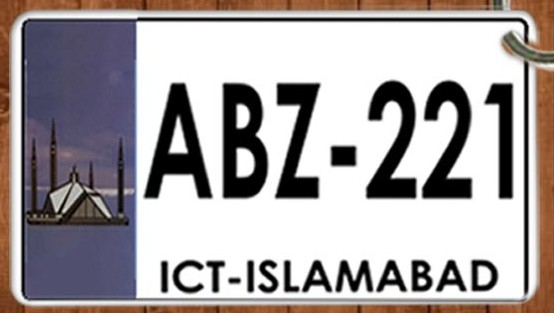1: (483, 74, 518, 201)
2: (360, 76, 419, 201), (420, 74, 477, 201)
A: (142, 77, 214, 200), (374, 255, 408, 294), (434, 256, 467, 295), (302, 256, 333, 294)
B: (215, 74, 268, 203), (408, 255, 434, 294)
C: (170, 254, 205, 294)
D: (468, 254, 499, 295)
I: (157, 257, 173, 294), (243, 257, 259, 293)
L: (280, 255, 301, 295)
M: (335, 256, 375, 294)
S: (257, 258, 280, 294)
T: (203, 254, 227, 295)
Z: (271, 76, 325, 203)
